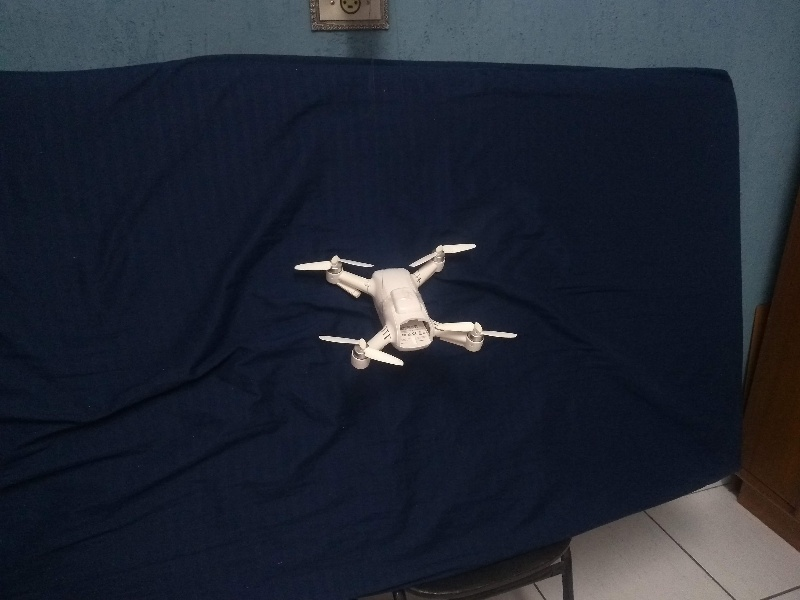drone: (287, 237, 524, 376)
